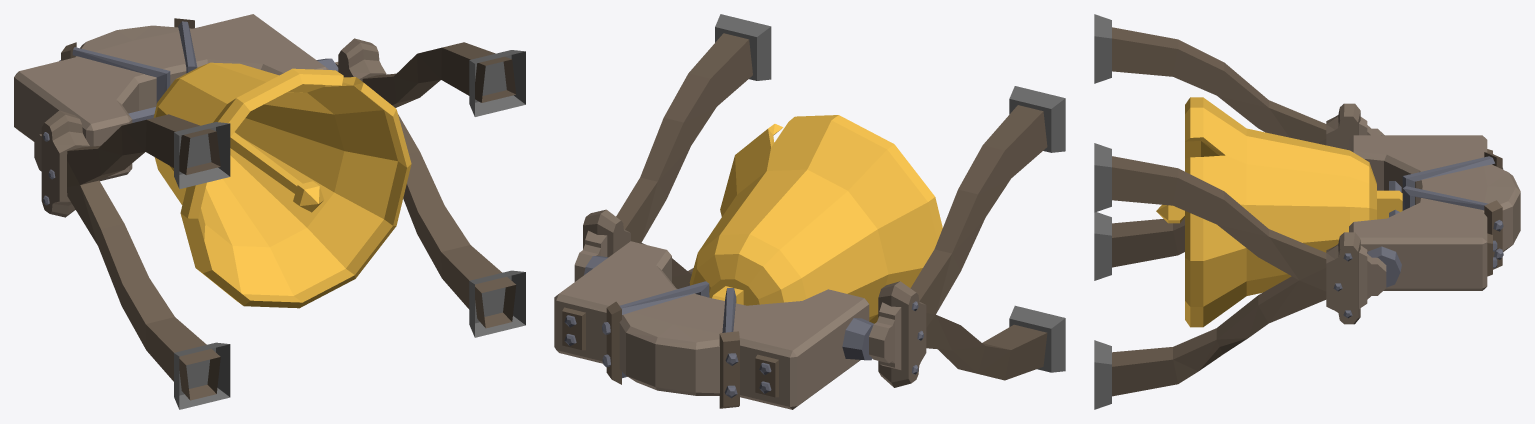
Rendered from warning_bell.glb.
3 renders of one model, left to right at view 1: azimuth 30°, elevation 25°; view 2: azimuth 150°, elevation 25°; view 3: azimuth 270°, elevation 25°, orthographic. The views are drawn at different scales.
Visible parts, largest first — view 1: warning_bell; view 2: warning_bell; view 3: warning_bell.
Boxes of the visible parts, left/top/right/bottom form: warning_bell: left=14, top=14, right=525, bottom=409; warning_bell: left=554, top=14, right=1065, bottom=409; warning_bell: left=1094, top=14, right=1520, bottom=409.
Size of the model in its own units: 1.84 by 1.39 by 2.2.
1 material, 1 textured.
